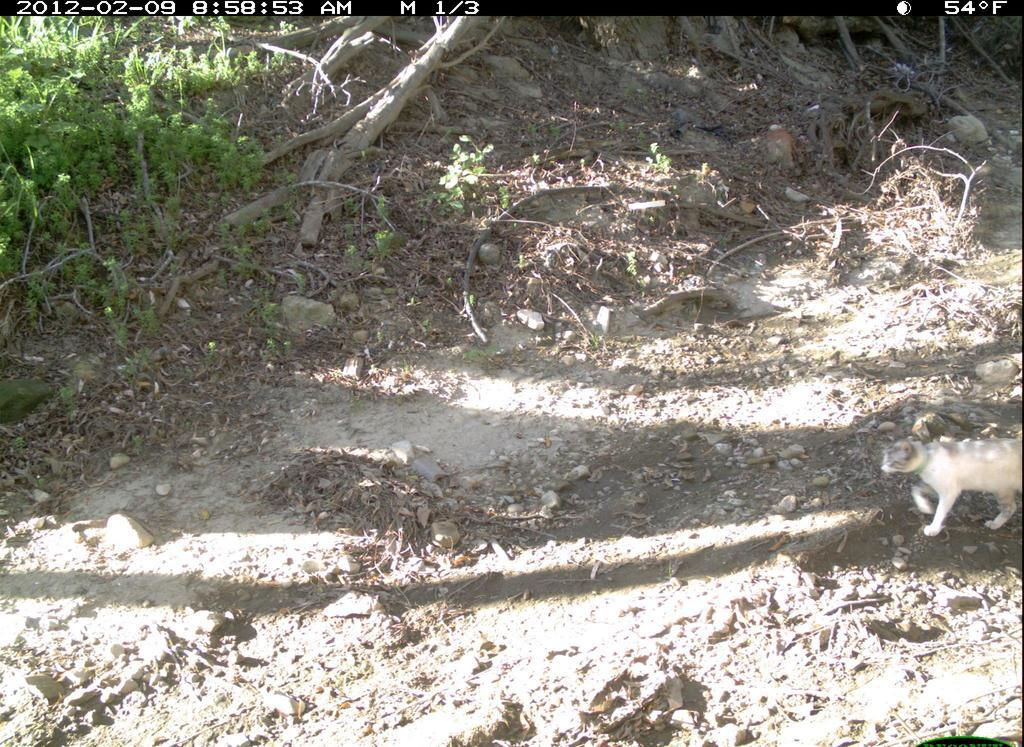cat: (854, 415, 1023, 545)
